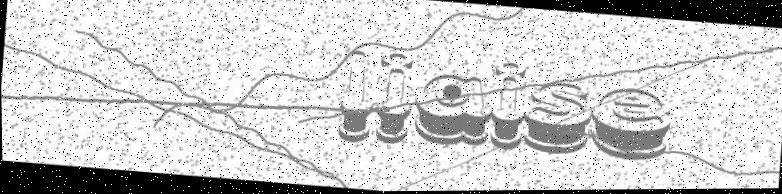a: (412, 72, 494, 148)
e: (587, 85, 672, 164)
i: (371, 52, 416, 145), (487, 61, 530, 152)
l: (336, 49, 378, 144)
s: (520, 81, 592, 157)
